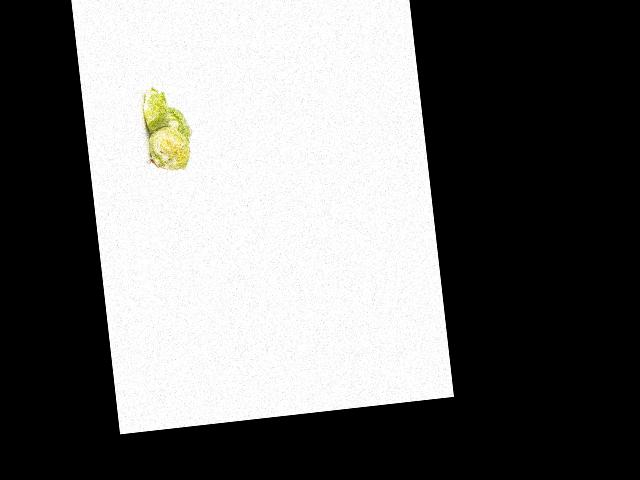lettuce: (160, 100, 195, 150)
